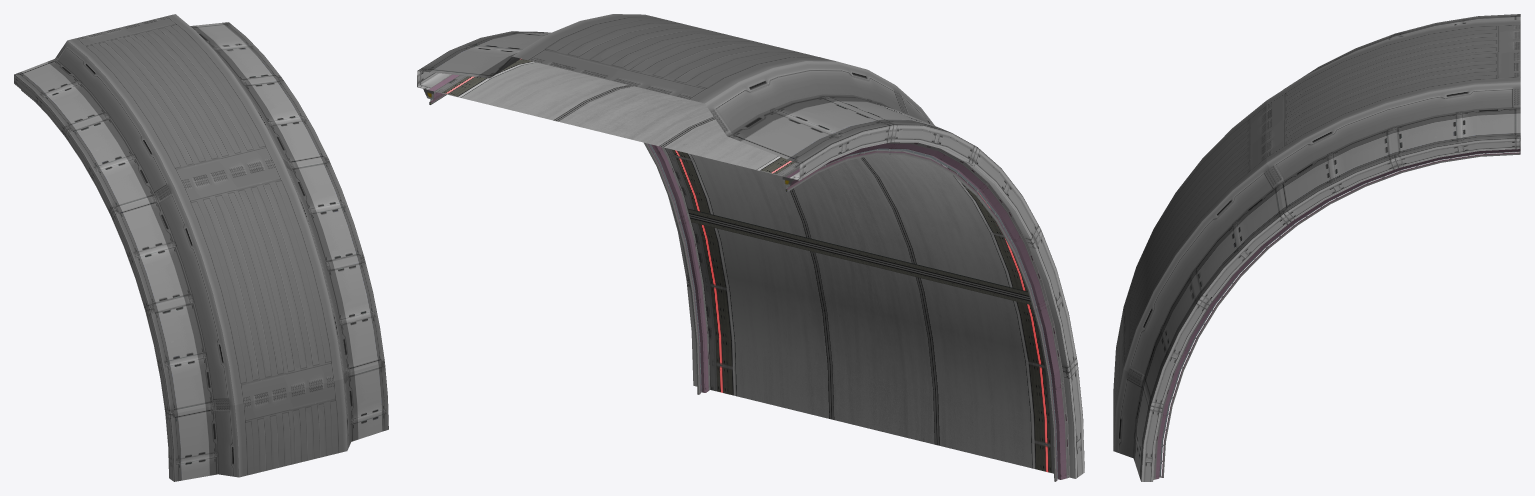
The model's file is T26 - Magnetic - UP.fbx.
3 renders of one model, left to right at view 1: azimuth 30°, elevation 25°; view 2: azimuth 150°, elevation 25°; view 3: azimuth 270°, elevation 25°, orthographic. The views are drawn at different scales.
Parts seen in each view (by area): view 1: standard_bridge4; view 2: straight_road17, standard_bridge4, wall1, magnetic_road_lines; view 3: standard_bridge4, wall1.
Boxes of the visible parts, x1,y1,x2,y2 form: standard_bridge4: [14, 14, 388, 481]; straight_road17: [434, 58, 1053, 473]; standard_bridge4: [417, 14, 1084, 478]; wall1: [423, 74, 1069, 481]; magnetic_road_lines: [553, 85, 1012, 445]; standard_bridge4: [1113, 14, 1520, 481]; wall1: [1153, 149, 1520, 479].
Size of the model in its own units: 4478 by 6204 by 6204.
